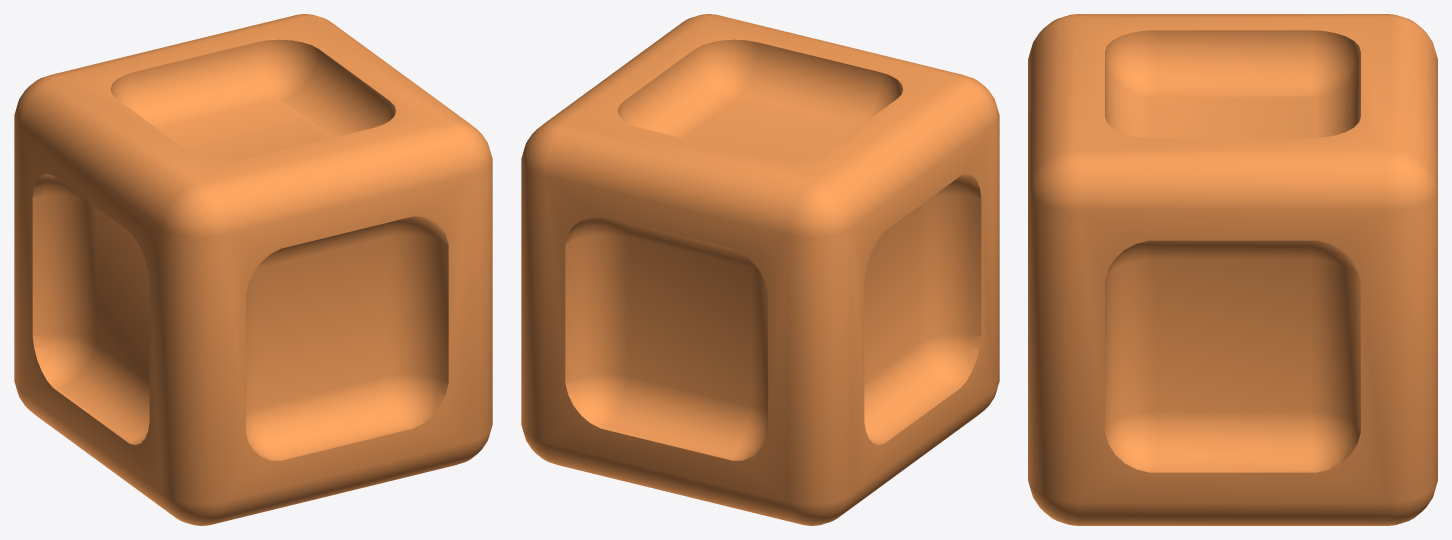
Rendered from rounded_cube.glb.
The picture shows the model from 3 angles, left to right: view 1: azimuth 30°, elevation 25°; view 2: azimuth 150°, elevation 25°; view 3: azimuth 270°, elevation 25°; orthographic projection. The views are drawn at different scales.
Visible parts, largest first — view 1: cube; view 2: cube; view 3: cube.
Part boxes in pixels (x1,y1,x2,y2): cube: (14,14,492,525); cube: (521,14,999,525); cube: (1028,14,1437,525).
Size of what is drawn, in the model's own units: 2 by 2 by 2.
